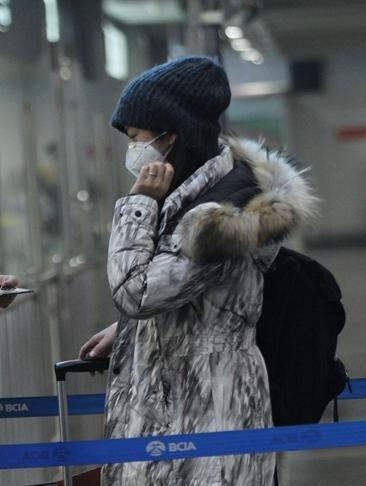OK: (122, 131, 184, 193)
